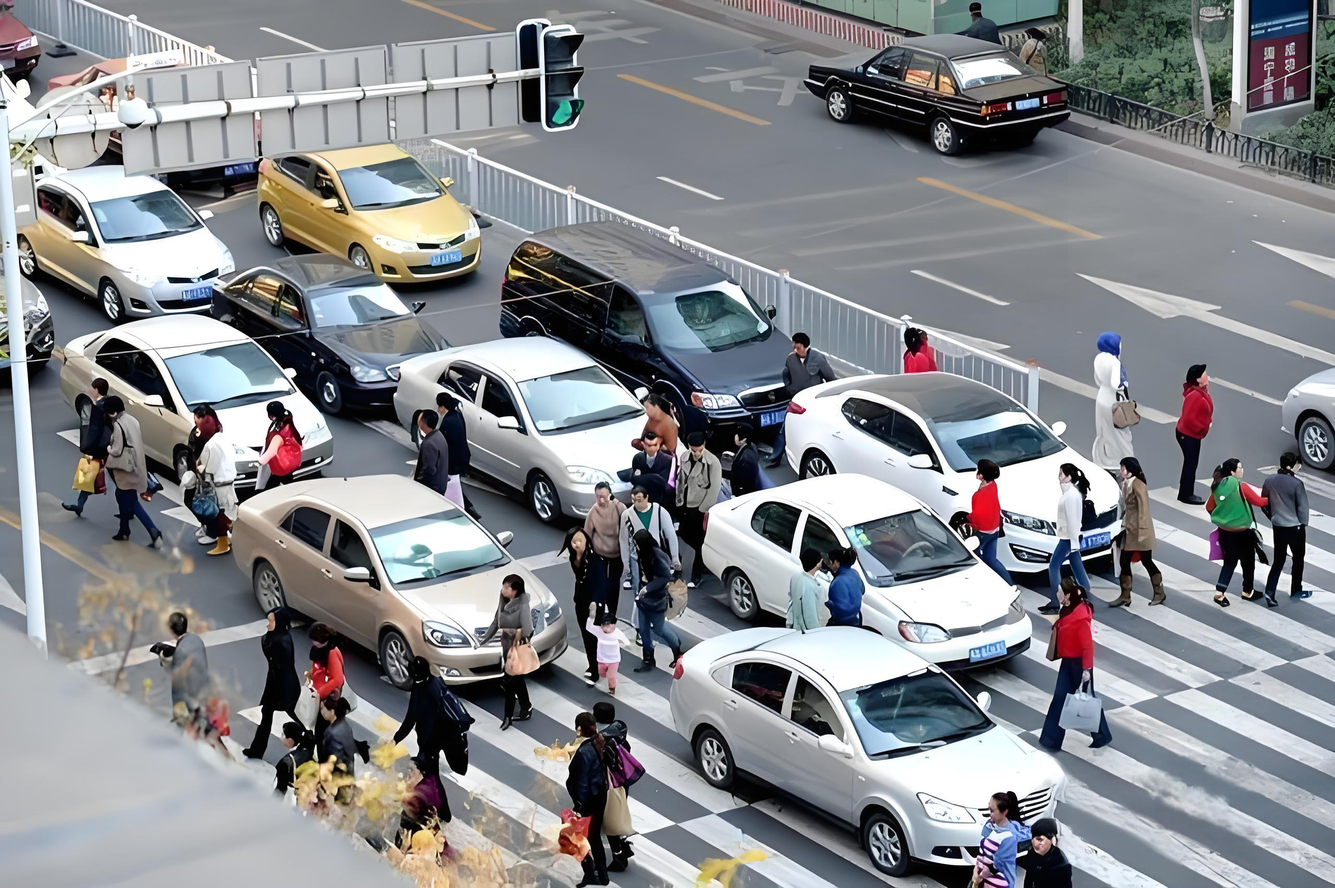car: (663, 627, 1086, 888), (223, 475, 545, 691), (773, 372, 1113, 535), (758, 8, 1088, 164), (252, 115, 509, 277), (414, 365, 652, 515)
motorbike: (492, 195, 820, 414), (720, 470, 1027, 658), (62, 320, 317, 489), (227, 254, 450, 410), (16, 165, 233, 316)
person: (527, 693, 648, 888), (378, 658, 481, 808), (63, 373, 159, 528), (596, 471, 662, 686), (769, 549, 906, 651), (1031, 569, 1112, 741), (176, 395, 247, 541), (566, 523, 628, 681), (1247, 425, 1302, 603), (136, 603, 221, 718), (263, 601, 321, 757), (666, 428, 722, 552), (1157, 441, 1201, 597), (1091, 332, 1135, 485), (621, 396, 693, 484), (301, 625, 357, 730), (964, 461, 1016, 559), (1233, 446, 1273, 564), (1173, 367, 1215, 472), (254, 428, 304, 497), (896, 332, 942, 387)
